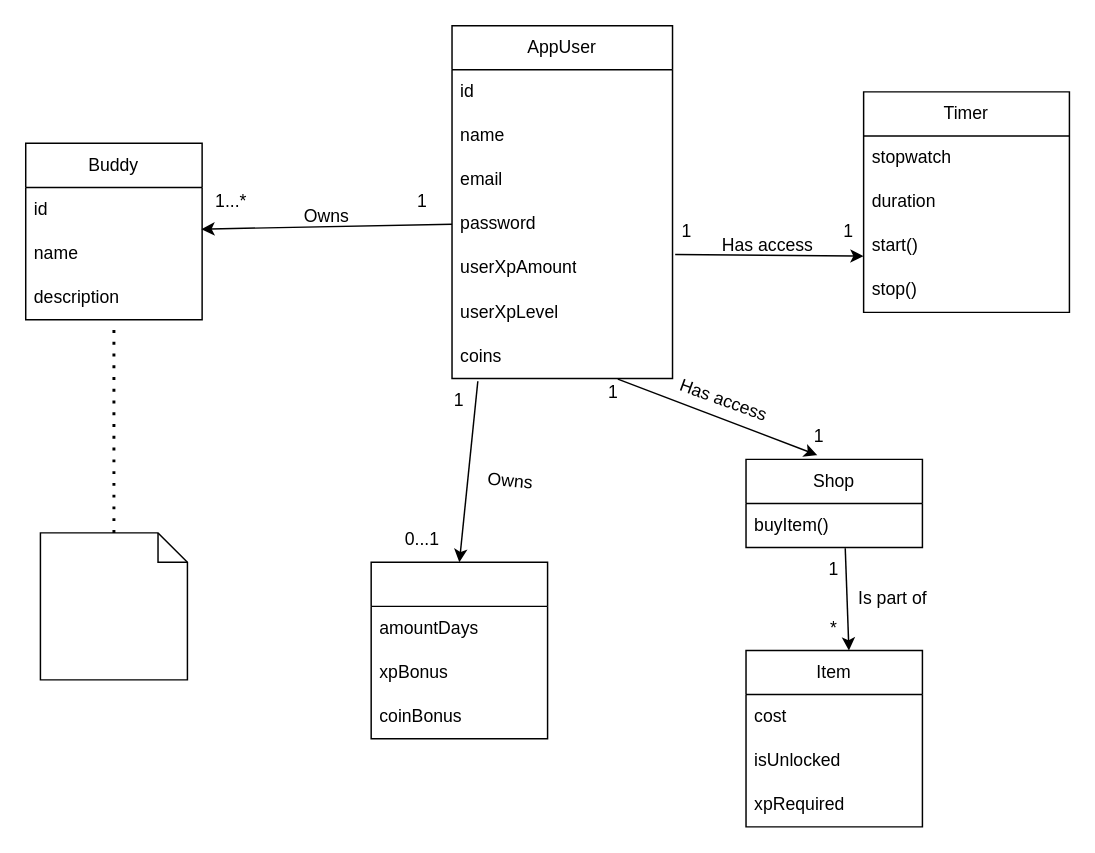
Image size: 1095x853. Some labels were removed from this diagram. Here are the shapes that lost their labels. From the top down, the box of each, then its label:
(39, 531, 187, 680): A user cannot have more than one Buddy active at once
(370, 561, 548, 739): Streak
